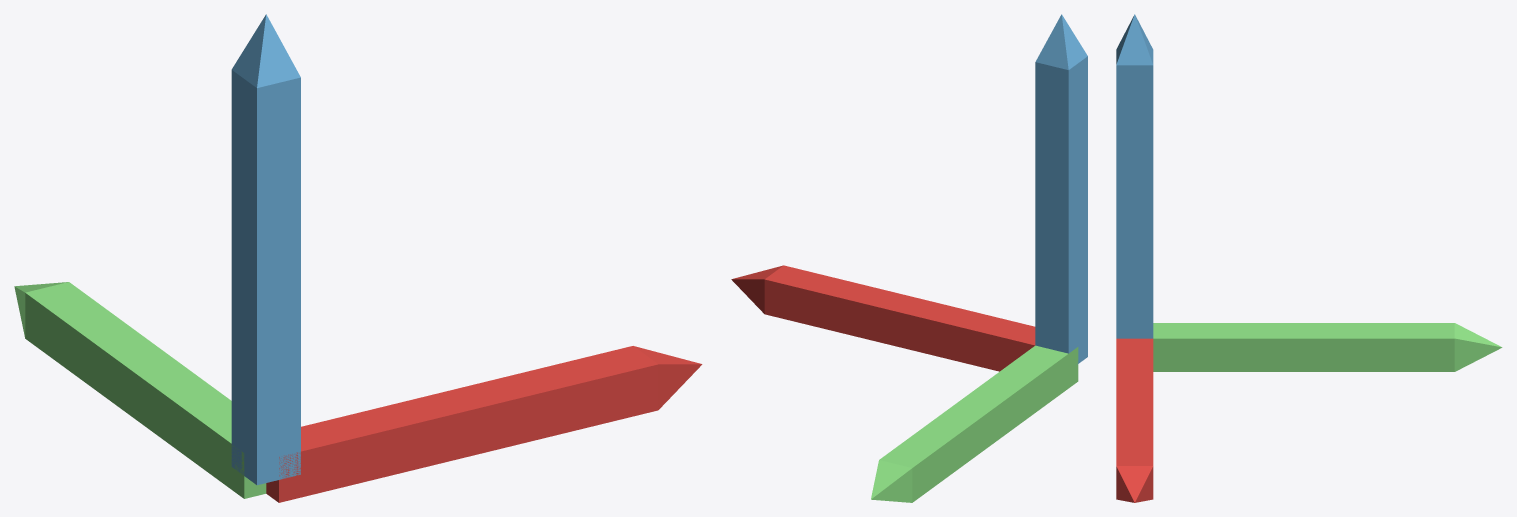
The model's file is orientation_test.glb.
3 views of the same model, side by side, from view 1: azimuth 30°, elevation 25°; view 2: azimuth 150°, elevation 25°; view 3: azimuth 270°, elevation 25° (orthographic). The views are drawn at different scales.
Parts seen in each view (by area): view 1: view_point; view 2: view_point; view 3: view_point.
Part boxes in pixels (x1,y1,x2,y2): view_point: (14, 14, 702, 502); view_point: (731, 14, 1087, 502); view_point: (1116, 14, 1502, 502).
Bounding box in the file's own units: 2.42 × 2.42 × 2.42.
